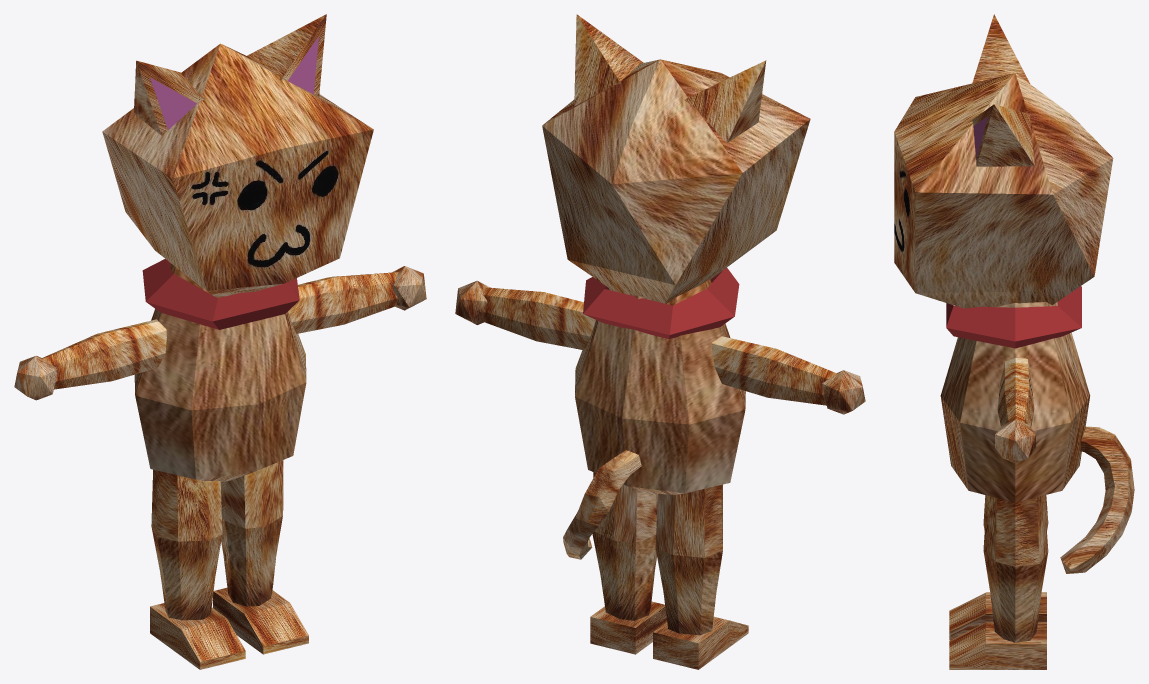
Rendered from cat-mesh.glb.
The picture shows the model from 3 angles, left to right: view 1: azimuth 30°, elevation 25°; view 2: azimuth 150°, elevation 25°; view 3: azimuth 270°, elevation 25°; orthographic projection. The views are drawn at different scales.
Parts seen in each view (by area): view 1: Head, Body, Legs, Arms, Feet, Cube, Collar, Hands; view 2: Head, Body, Legs, Arms, Cube, Collar, Feet, Tail, Hands; view 3: Head, Body, Legs, Feet, Cube, Tail, Collar, Arms, Hands.
Part boxes in pixels (x1=…): Head: x1=102, y1=43, x2=373, y2=296; Body: x1=134, y1=263, x2=306, y2=481; Legs: x1=151, y1=460, x2=283, y2=620; Arms: x1=42, y1=272, x2=397, y2=389; Feet: x1=150, y1=587, x2=308, y2=669; Cube: x1=134, y1=14, x2=326, y2=135; Collar: x1=142, y1=259, x2=299, y2=329; Hands: x1=14, y1=266, x2=426, y2=400; Head: x1=542, y1=59, x2=810, y2=303; Body: x1=575, y1=279, x2=745, y2=495; Legs: x1=592, y1=472, x2=722, y2=635; Arms: x1=481, y1=287, x2=837, y2=405; Cube: x1=574, y1=14, x2=766, y2=142; Collar: x1=583, y1=267, x2=739, y2=338; Feet: x1=590, y1=601, x2=748, y2=669; Tail: x1=563, y1=450, x2=641, y2=559; Hands: x1=455, y1=280, x2=865, y2=414; Head: x1=894, y1=73, x2=1113, y2=308; Body: x1=940, y1=302, x2=1090, y2=502; Legs: x1=983, y1=495, x2=1048, y2=642; Feet: x1=949, y1=592, x2=1046, y2=669; Cube: x1=972, y1=14, x2=1034, y2=166; Tail: x1=1060, y1=426, x2=1134, y2=573; Collar: x1=946, y1=286, x2=1081, y2=348; Arms: x1=997, y1=357, x2=1034, y2=427; Hands: x1=995, y1=419, x2=1035, y2=462.
Bounding box in the file's own units: 3.28 × 4.64 × 1.73.
4 materials, 2 textured.
